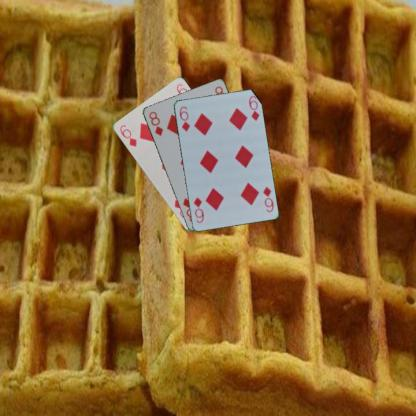6d: (116, 122, 138, 148), (177, 103, 191, 133), (260, 184, 274, 213)
8d: (146, 109, 164, 137)
